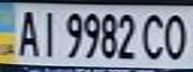2: (115, 10, 142, 61)
8: (100, 9, 121, 61)
9: (60, 8, 84, 60), (81, 9, 103, 60)
A: (12, 6, 42, 57)
C: (139, 10, 172, 61)
I: (36, 7, 60, 58)
O: (160, 10, 193, 62)
